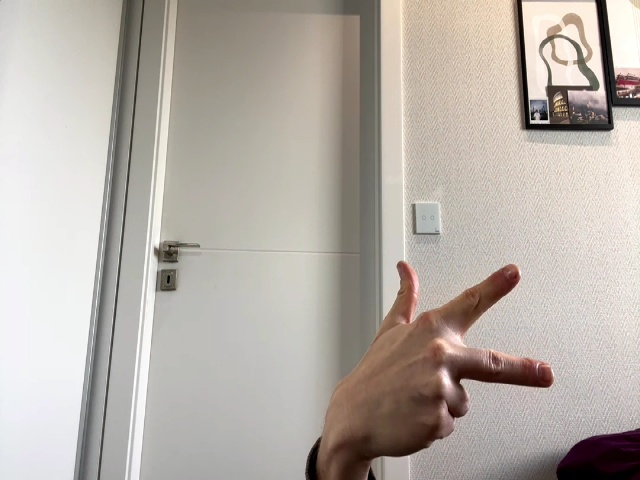K: (328, 261, 553, 455)
